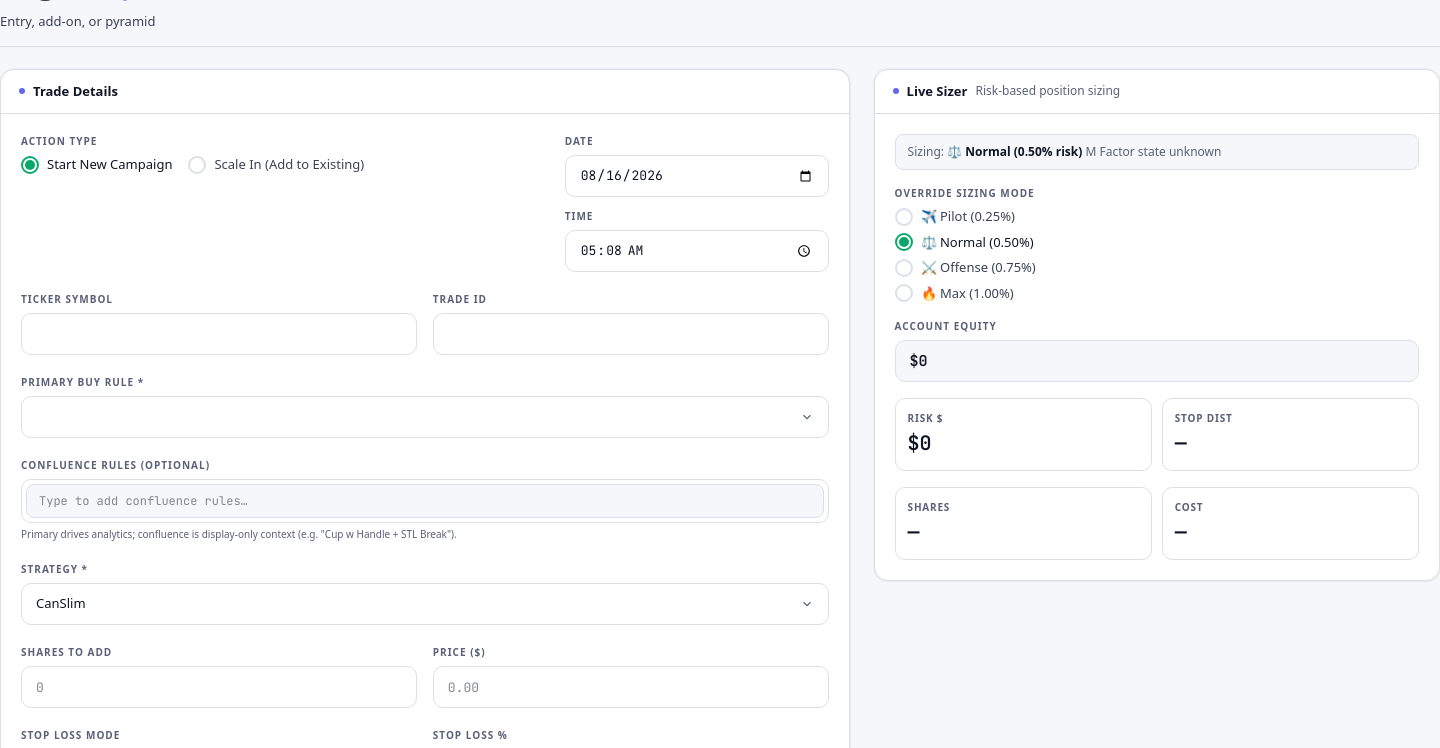
Test case: LogBuy — options stop-loss visibility › clicking 'Show stop loss' reveals the field
Expected: the element with test id "logbuy-sizing-mode-indicator" is shown, [895, 134, 1419, 170]
In the field below "Ticker Symbol": (219, 334) [21, 313, 417, 355], type "AMZN 260619 $235C"
(page scrolled)
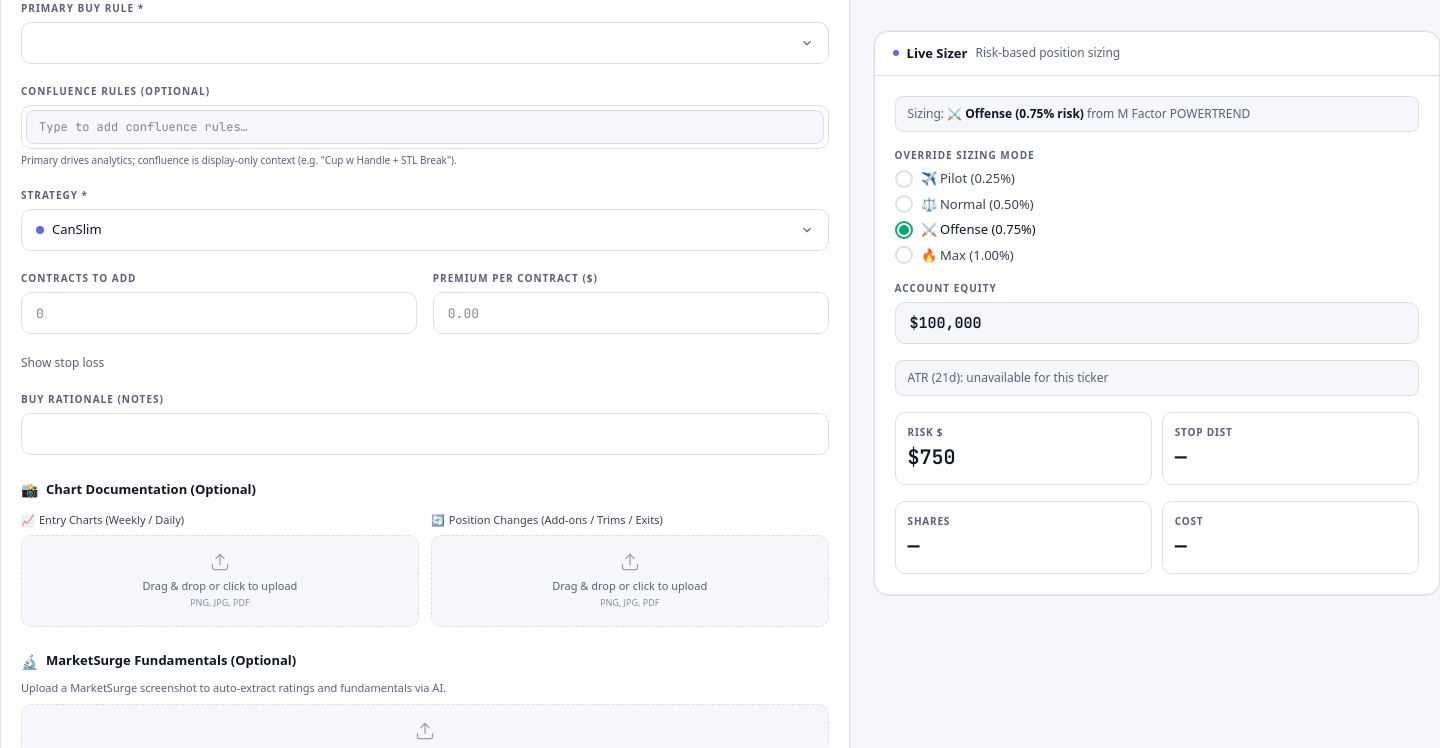
Click the button "Show stop loss": (63, 363) [21, 354, 104, 372]
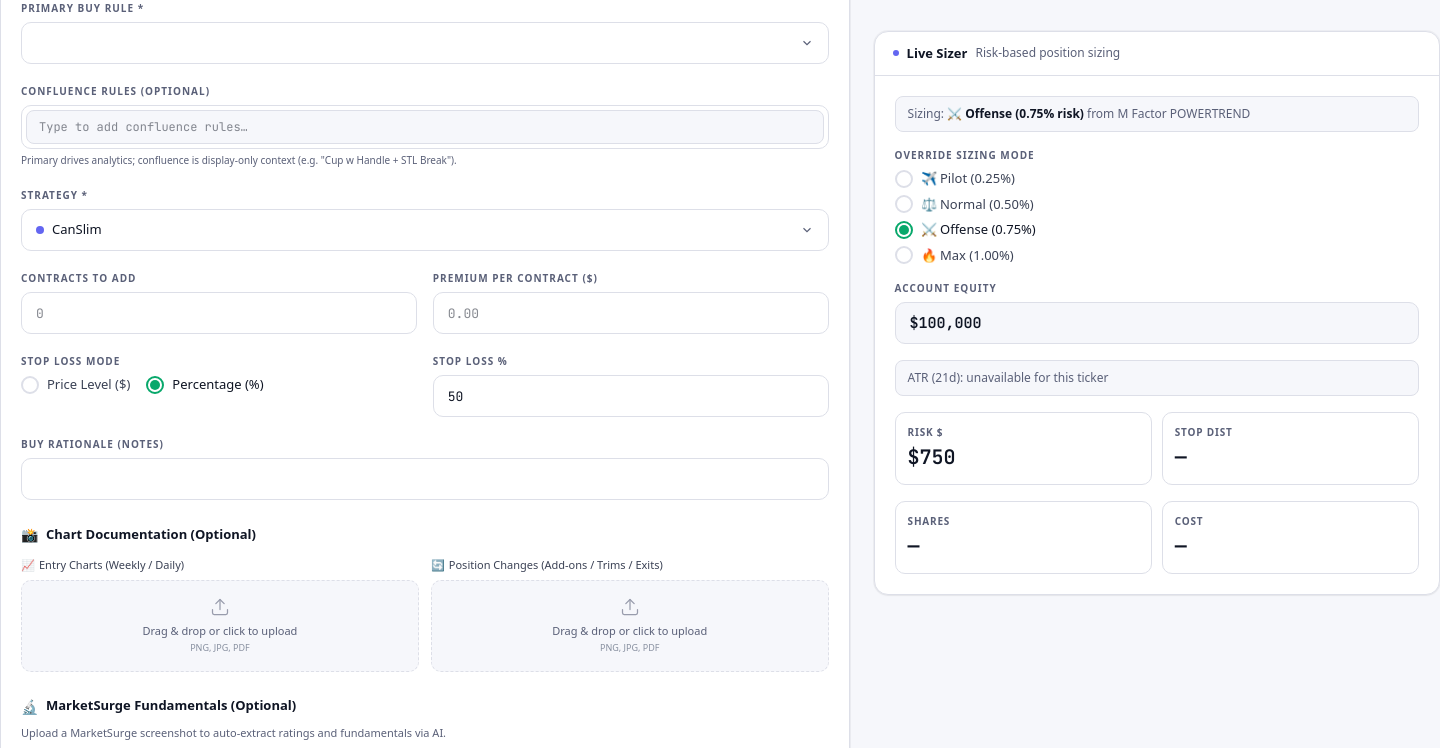
Expected: the text "Stop Loss Mode" is shown, [21, 354, 120, 368]
Expected: the button "Show stop loss" is gone
